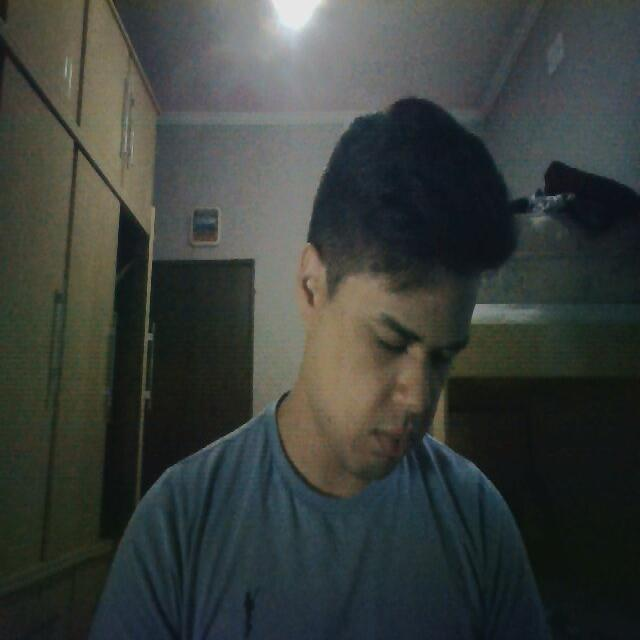sonolento: (299, 236, 465, 482)
